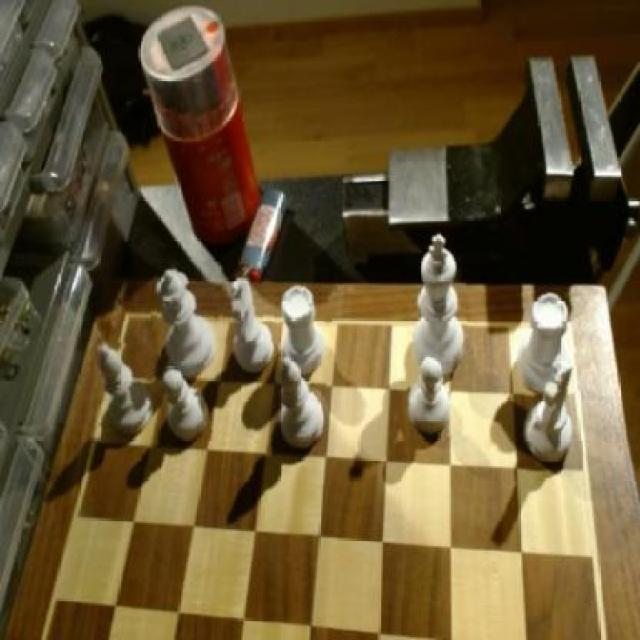black-rook: (275, 357, 327, 457), (97, 342, 154, 430)
white-bishop: (406, 231, 467, 381)
white-king: (523, 354, 582, 475), (222, 268, 274, 382)
white-knight: (162, 366, 213, 442), (406, 354, 452, 437)
white-pawn: (151, 263, 221, 379)
white-queen: (520, 294, 577, 401), (280, 286, 332, 385)
